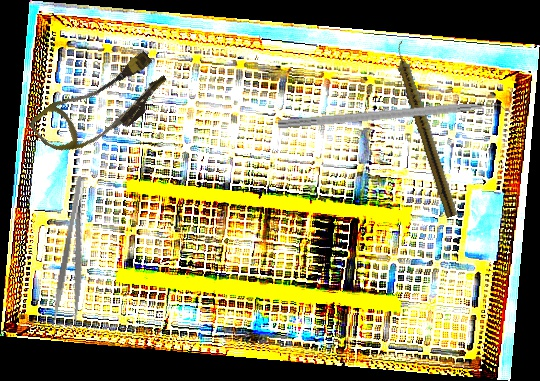Cannula: (27, 37, 175, 175)
Chopper: (277, 98, 517, 142)
Dressing Forceps: (51, 175, 100, 327)
Handpiece: (389, 39, 462, 219)
